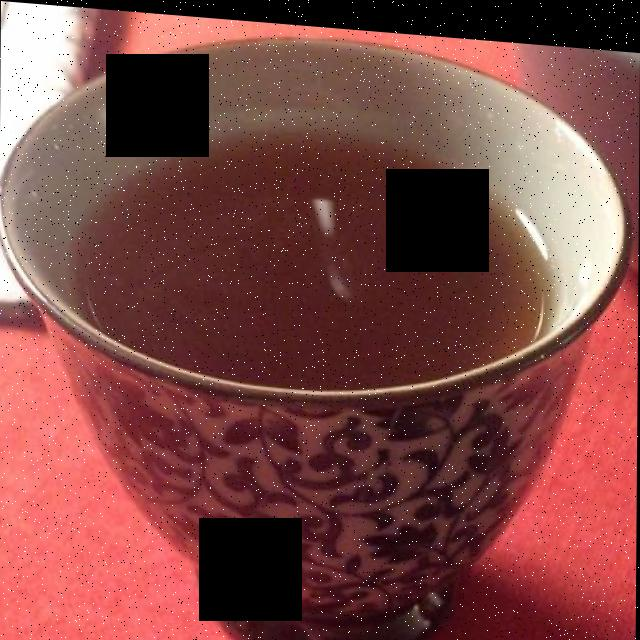tea: (80, 123, 545, 387)
